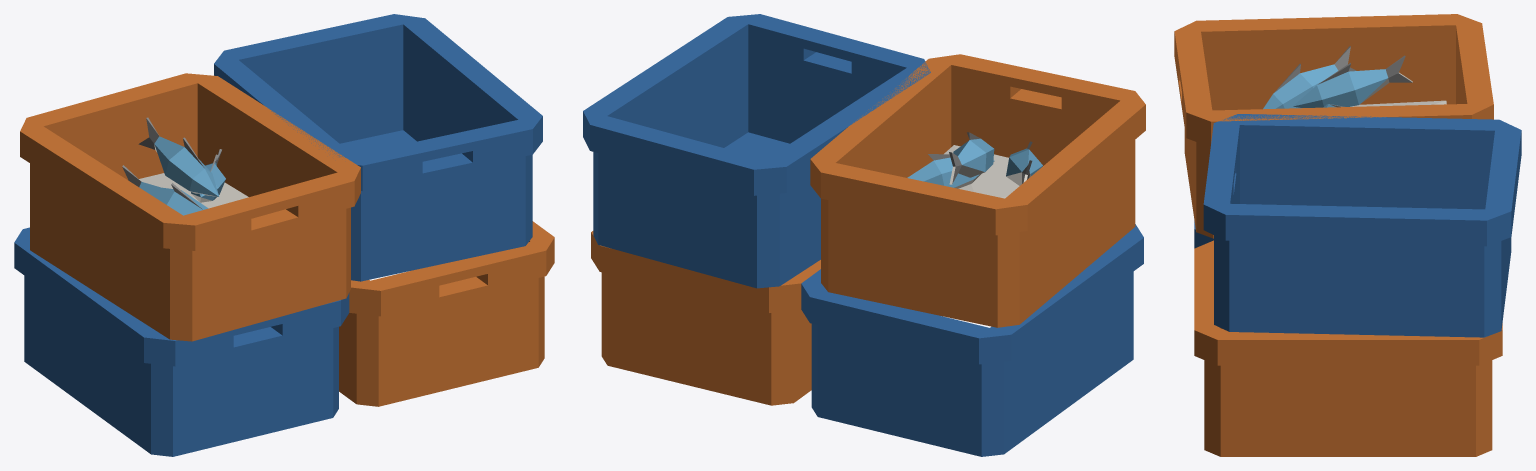
File: balikci_kasasi.glb
3 renders of one model, left to right at view 1: azimuth 30°, elevation 25°; view 2: azimuth 150°, elevation 25°; view 3: azimuth 270°, elevation 25°, orthographic. The views are drawn at different scales.
Parts seen in each view (by area): view 1: balikci_kasasi; view 2: balikci_kasasi; view 3: balikci_kasasi.
Part boxes in pixels (x1=…): balikci_kasasi: x1=14, y1=14, x2=554, y2=456; balikci_kasasi: x1=583, y1=14, x2=1145, y2=456; balikci_kasasi: x1=1174, y1=14, x2=1521, y2=456.
Size of the model in its own units: 1.21 by 0.6819 by 0.8557.
